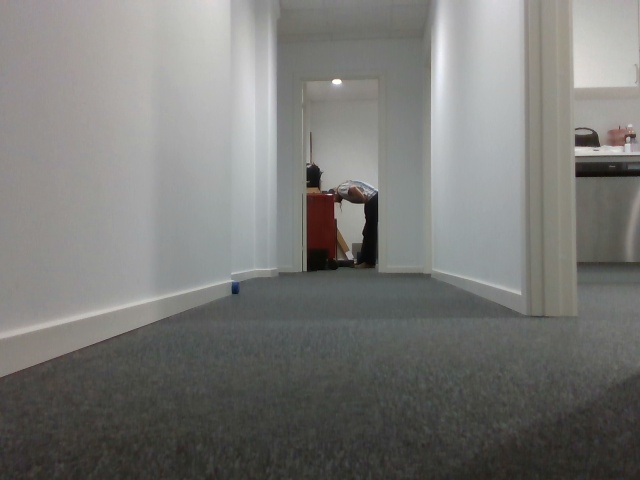alfa: (230, 280, 240, 295)
